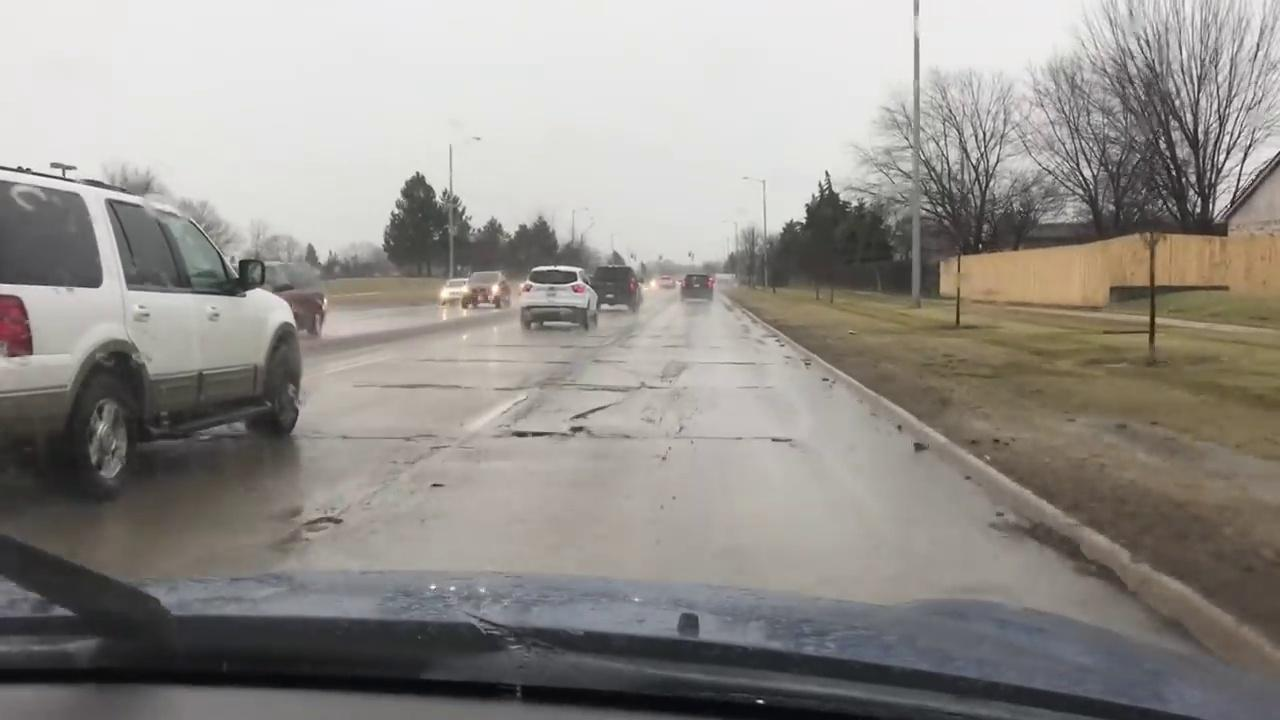pothole: (279, 517, 345, 547), (565, 396, 622, 423), (566, 424, 640, 439), (502, 427, 571, 439)
